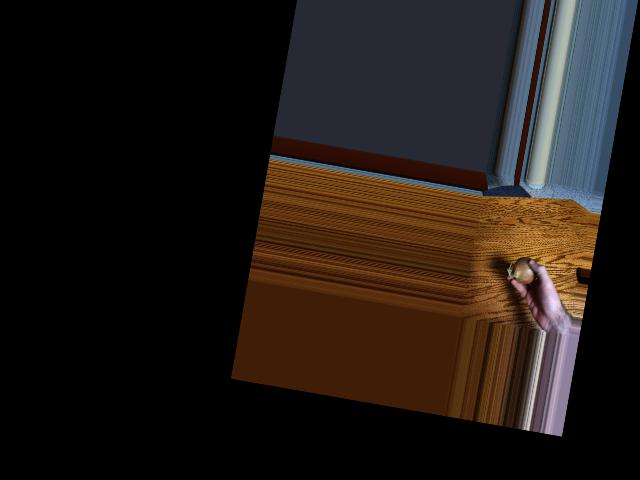onion: (510, 255, 540, 285)
